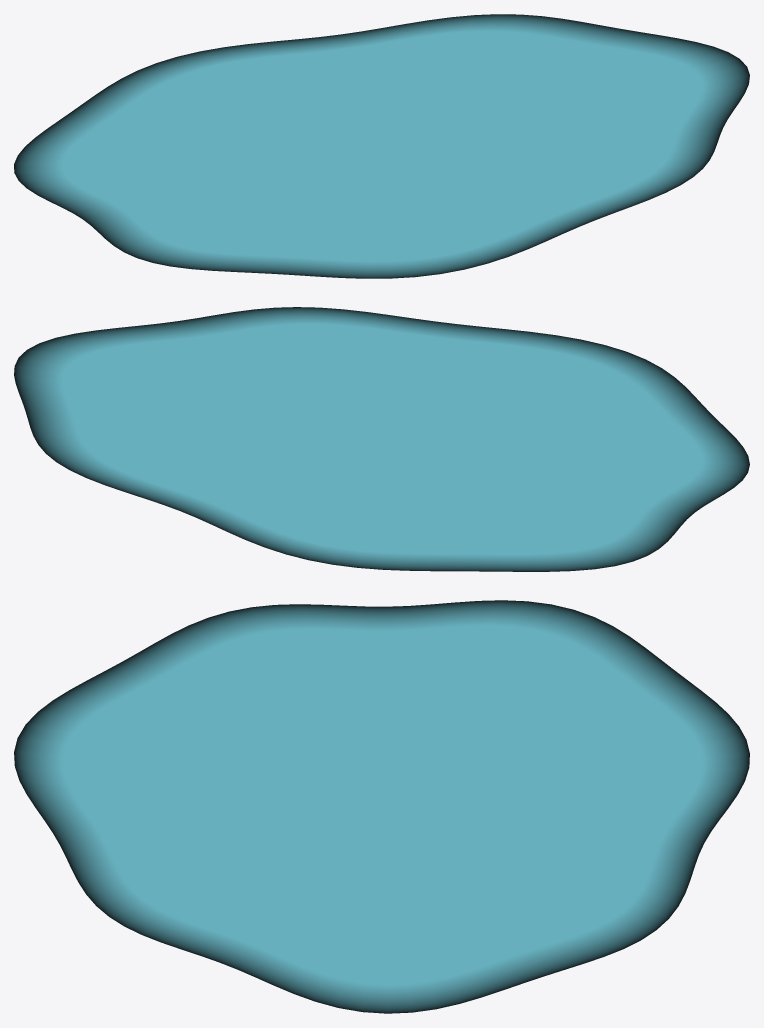
The model's file is SM_SF_NorthPuddle.fbx.
3 views of the same model, one above another, from view 1: azimuth 30°, elevation 25°; view 2: azimuth 150°, elevation 25°; view 3: azimuth 270°, elevation 25° (orthographic). The views are drawn at different scales.
Visible parts, largest first — view 1: SM_SF_NorthPuddle; view 2: SM_SF_NorthPuddle; view 3: SM_SF_NorthPuddle.
Boxes of the visible parts, bbox=[...] form: SM_SF_NorthPuddle: bbox=[14, 14, 749, 278]; SM_SF_NorthPuddle: bbox=[14, 307, 749, 571]; SM_SF_NorthPuddle: bbox=[14, 600, 749, 1013].
Size of the model in its own units: 8.53 by 6.42 by 0.
